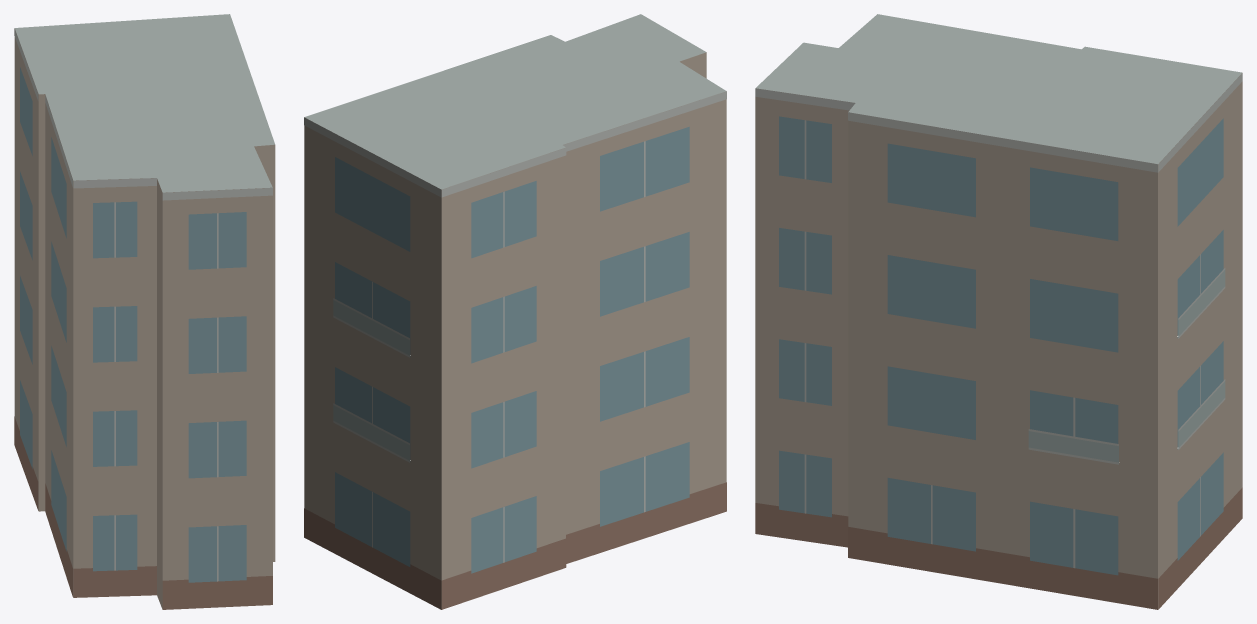
The model's file is survey-upis-33038244.glb.
3 renders of one model, left to right at view 1: azimuth 30°, elevation 25°; view 2: azimuth 150°, elevation 25°; view 3: azimuth 270°, elevation 25°, orthographic. The views are drawn at different scales.
Parts seen in each view (by area): view 1: survey-upis-33038244.tmp; view 2: survey-upis-33038244.tmp; view 3: survey-upis-33038244.tmp.
Part boxes in pixels (left/top/right/bottom): survey-upis-33038244.tmp: left=14, top=14, right=275, bottom=609; survey-upis-33038244.tmp: left=304, top=14, right=726, bottom=609; survey-upis-33038244.tmp: left=755, top=14, right=1242, bottom=609.
Bounding box in the file's own units: 9.26 × 12.8 × 12.69.
